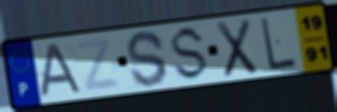A: (36, 42, 85, 100)
L: (259, 16, 298, 73)
S: (125, 29, 170, 89), (170, 25, 211, 83)
X: (214, 17, 259, 80)
Z: (73, 36, 122, 94)
